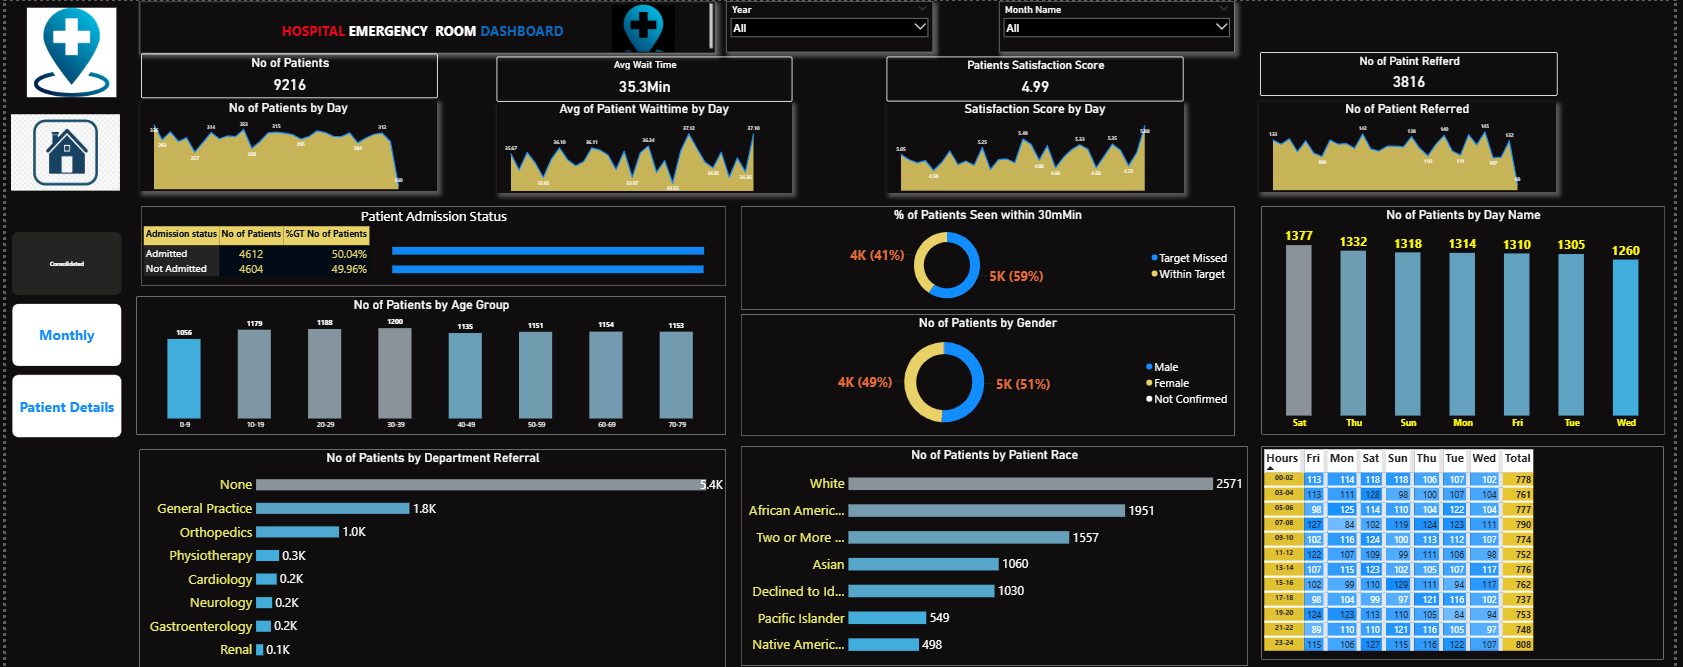

The page's visual inventory and layout, read from the dashboard file:
{"tool":"powerbi","page":{"name":"Consolidated","canvas":[4000,1600],"ordinal":0},"visuals":[{"type":"card","title":"No of Patients","fields":{"Values":["Hospital ER_Data.No of Patients"]},"box":[322.8,125.1,712,107],"z":0},{"type":"slicer","title":"Year","fields":{"Values":["Date Table.Year"]},"box":[1727.2,0,496.6,122.3],"z":1000},{"type":"slicer","fields":{"Values":["Date Table.Month Name"]},"box":[2382.1,0,564.9,122.3],"z":2000},{"type":"areaChart","fields":{"Category":["Date Table.Date.Variation.Date Hierarchy.Day"],"Y":["Hospital ER_Data.No of Patients"]},"box":[318.8,238.1,714.2,219],"z":3000},{"type":"areaChart","title":"Avg of Patient Waittime by Day","fields":{"Category":["Date Table.Date.Variation.Date Hierarchy.Day"],"Y":["Avg(Hospital ER_Data.Patient Waittime)"]},"box":[1176.6,241.1,708.9,219.5],"z":4000},{"type":"areaChart","fields":{"Category":["Date Table.Date.Variation.Date Hierarchy.Day"],"Y":["Hospital ER_Data.Satisfaction Score"]},"box":[2112.2,241.1,712.5,219],"z":5000},{"type":"areaChart","title":"No of Patient Referred","fields":{"Category":["Date Table.Date.Variation.Date Hierarchy.Day"],"Y":["Hospital ER_Data.No of Patient Referred"]},"box":[3006.1,242.1,714.2,217.9],"z":6000},{"type":"card","title":"Avg Wait Time","fields":{"Values":["Hospital ER_Data.Avg Wait Time"]},"box":[1178.2,133.2,710.2,108.9],"z":7000},{"type":"card","title":"Patients Satisfaction Score","fields":{"Values":["Hospital ER_Data.Satisfaction Score"]},"box":[2112.2,133.1,712.5,107.9],"z":8000},{"type":"card","title":"No of Patint Refferd","fields":{"Values":["Hospital ER_Data.No of Patient Referred"]},"box":[3007,123.1,714,105.5],"z":9000},{"type":"pivotTable","title":"Patient Admission Status","fields":{"Rows":["Hospital ER_Data.Admission status"],"Values":["Hospital ER_Data.No of Patients1","Hospital ER_Data.No of Patients"]},"box":[323.8,493,1403.3,190.7],"z":10000},{"type":"barChart","fields":{"Category":["Hospital ER_Data.Admission status"],"Y":["Hospital ER_Data.No of Patients"]},"box":[921.2,554.1,780.8,129.5],"z":11000},{"type":"clusteredColumnChart","fields":{"Category":["Hospital ER_Data.Age Group"],"Y":["Hospital ER_Data.No of Patients"]},"box":[313.1,708.9,1414.1,331],"z":12000},{"type":"clusteredBarChart","fields":{"Category":["Hospital ER_Data.Department Referral"],"Y":["Hospital ER_Data.No of Patients"]},"box":[320.2,1075.9,1406.9,525.3],"z":13000},{"type":"donutChart","title":"% of Patients Seen within 30mMin","fields":{"Category":["Hospital ER_Data.Waittime Status"],"Y":["Hospital ER_Data.No of Patients"]},"box":[1763.2,493,1183.8,248.3],"z":14000},{"type":"donutChart","title":"No of Patients by Gender","fields":{"Y":["Hospital ER_Data.No of Patients"],"Category":["Hospital ER_Data.Patient Gender"]},"box":[1763.2,752,1183.8,291.5],"z":15000},{"type":"clusteredBarChart","fields":{"Y":["Hospital ER_Data.No of Patients"],"Category":["Hospital ER_Data.Patient Race"]},"box":[1763.2,1068.7,1216.2,525.3],"z":16000},{"type":"pivotTable","fields":{"Rows":["Hospital ER_Data.Waittime Interval"],"Columns":["Date Table.Day Name"],"Values":["Hospital ER_Data.No of Patients"]},"box":[3011.8,1068.7,964.3,511],"z":17000},{"type":"columnChart","fields":{"Category":["Date Table.Day Name"],"Y":["Hospital ER_Data.No of Patients"]},"box":[3011.8,493,967.9,546.9],"z":18000},{"type":"textbox","box":[320.2,0,1381.7,125.9],"z":19000},{"type":"image","box":[1434.9,3.5,186.4,123.1],"z":20000},{"type":"pageNavigator","box":[14.1,555.7,263.8,495.9],"z":21000},{"type":"image","box":[28.1,10.6,256.7,225.1],"z":22000},{"type":"image","box":[0,267.3,284.9,193.4],"z":24001}]}

Visuals, with their boxes on the page's 4000x1600 design canvas (x1, y1, x2, y2). These are canvas units, not pixel positions in the 1683x667 screenshot, which may show the page scaled, cropped or inside an application window:
"No of Patients" card: 323:125:1035:232
"Year" slicer: 1727:0:2224:122
slicer - Date Table.Month Name: 2382:0:2947:122
areaChart - Date Table.Date.Variation.Date Hierarchy.Day x Hospital ER_Data.No of Patients: 319:238:1033:457
"Avg of Patient Waittime by Day" areaChart: 1177:241:1886:461
areaChart - Date Table.Date.Variation.Date Hierarchy.Day x Hospital ER_Data.Satisfaction Score: 2112:241:2825:460
"No of Patient Referred" areaChart: 3006:242:3720:460
"Avg Wait Time" card: 1178:133:1888:242
"Patients Satisfaction Score" card: 2112:133:2825:241
"No of Patint Refferd" card: 3007:123:3721:229
"Patient Admission Status" pivotTable: 324:493:1727:684
barChart - Hospital ER_Data.Admission status x Hospital ER_Data.No of Patients: 921:554:1702:684
clusteredColumnChart - Hospital ER_Data.Age Group x Hospital ER_Data.No of Patients: 313:709:1727:1040
clusteredBarChart - Hospital ER_Data.Department Referral x Hospital ER_Data.No of Patients: 320:1076:1727:1601
"% of Patients Seen within 30mMin" donutChart: 1763:493:2947:741
"No of Patients by Gender" donutChart: 1763:752:2947:1044
clusteredBarChart - Hospital ER_Data.No of Patients x Hospital ER_Data.Patient Race: 1763:1069:2979:1594
pivotTable - Hospital ER_Data.Waittime Interval x Date Table.Day Name: 3012:1069:3976:1580
columnChart - Date Table.Day Name x Hospital ER_Data.No of Patients: 3012:493:3980:1040
textbox: 320:0:1702:126
image: 1435:4:1621:127
pageNavigator: 14:556:278:1052
image: 28:11:285:236
image: 0:267:285:461
